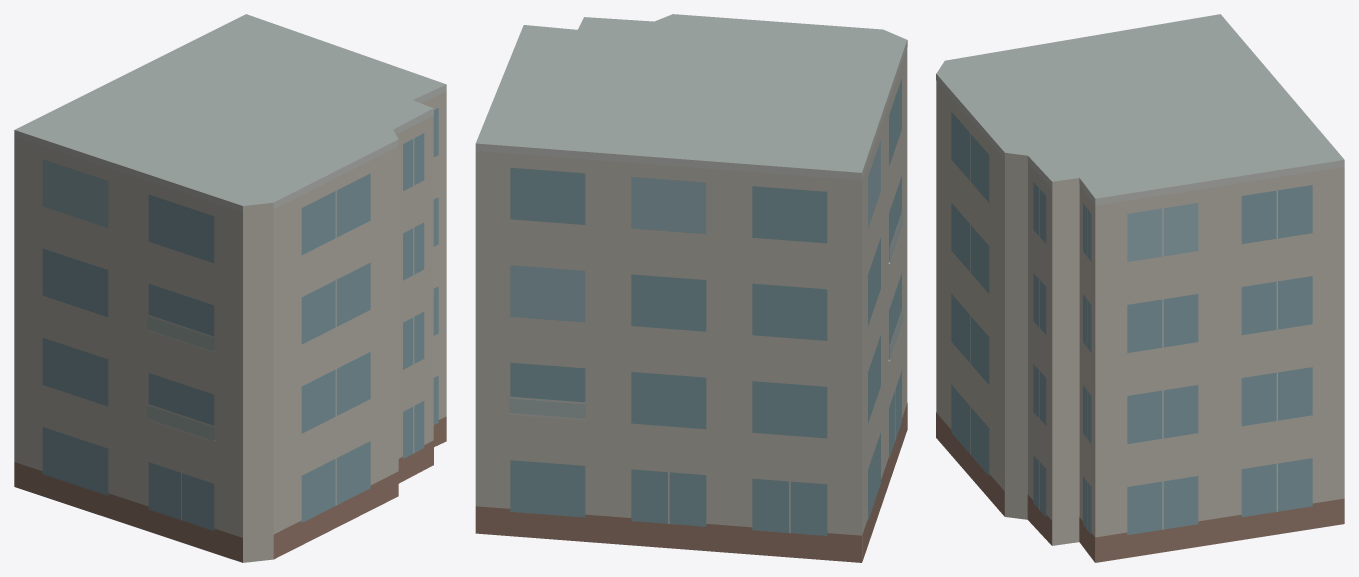
File: survey-upis-32991724.glb
The picture shows the model from 3 angles, left to right: view 1: azimuth 30°, elevation 25°; view 2: azimuth 150°, elevation 25°; view 3: azimuth 270°, elevation 25°; orthographic projection. The views are drawn at different scales.
Parts seen in each view (by area): view 1: survey-upis-32991724.tmp; view 2: survey-upis-32991724.tmp; view 3: survey-upis-32991724.tmp.
Boxes of the visible parts, x1,y1,x2,y2 form: survey-upis-32991724.tmp: (14, 14, 446, 562); survey-upis-32991724.tmp: (475, 14, 907, 562); survey-upis-32991724.tmp: (936, 14, 1344, 562).
Size of the model in its own units: 13.93 by 12.8 by 13.02.
